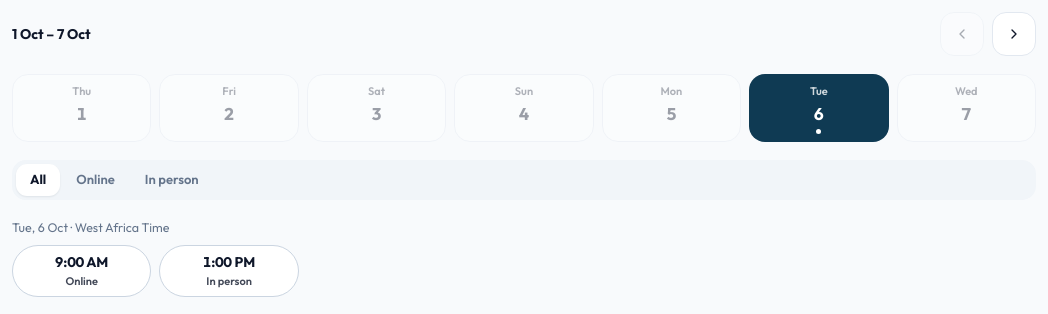
TimeStep › offers a format filter only when the day has both
Click the tab "In person".
click(172, 180)  # box [131, 164, 213, 196]
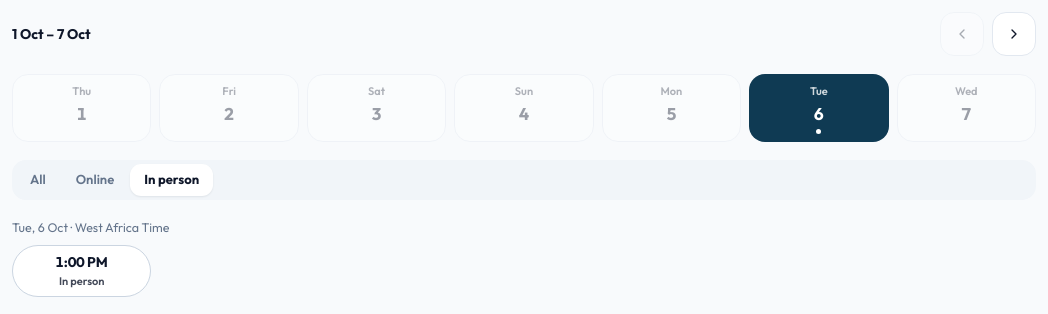
Expected: the button "1:00 PM In person" is shown, [12, 245, 151, 297]
Now the button "9:00 AM" is gone
